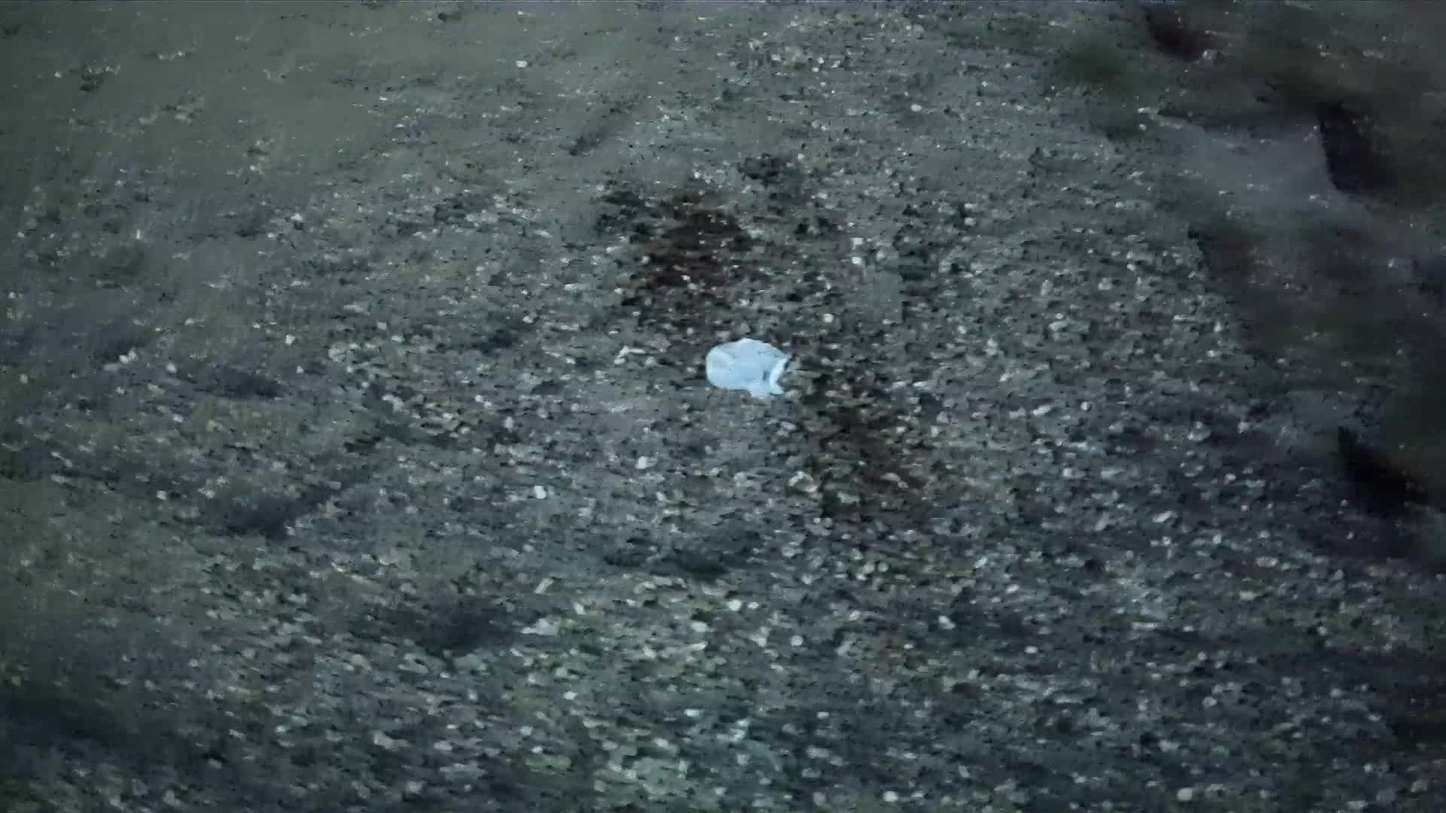Target: (705, 333, 794, 408)
